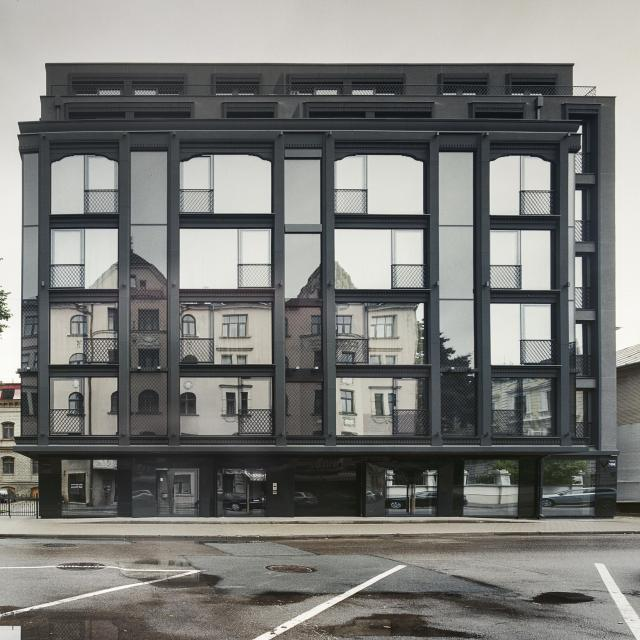door: (385, 466, 441, 519), (216, 465, 264, 517), (155, 466, 202, 518)
railing: (51, 83, 598, 97), (575, 220, 597, 242), (577, 153, 599, 174), (575, 355, 594, 378), (575, 423, 593, 439)
window: (333, 229, 422, 291), (337, 302, 426, 364), (185, 301, 273, 363), (333, 376, 421, 438), (182, 152, 271, 213), (180, 375, 269, 436), (335, 153, 423, 214), (181, 228, 269, 289), (487, 154, 561, 216), (485, 377, 559, 439), (485, 230, 558, 292), (486, 230, 559, 292), (490, 303, 563, 365), (292, 458, 364, 518), (58, 457, 122, 519), (51, 377, 116, 438), (52, 230, 116, 291), (56, 303, 120, 364), (53, 154, 118, 214), (463, 459, 521, 520), (539, 458, 597, 518), (575, 390, 586, 423), (573, 189, 583, 221), (573, 256, 582, 288), (577, 324, 586, 354)
